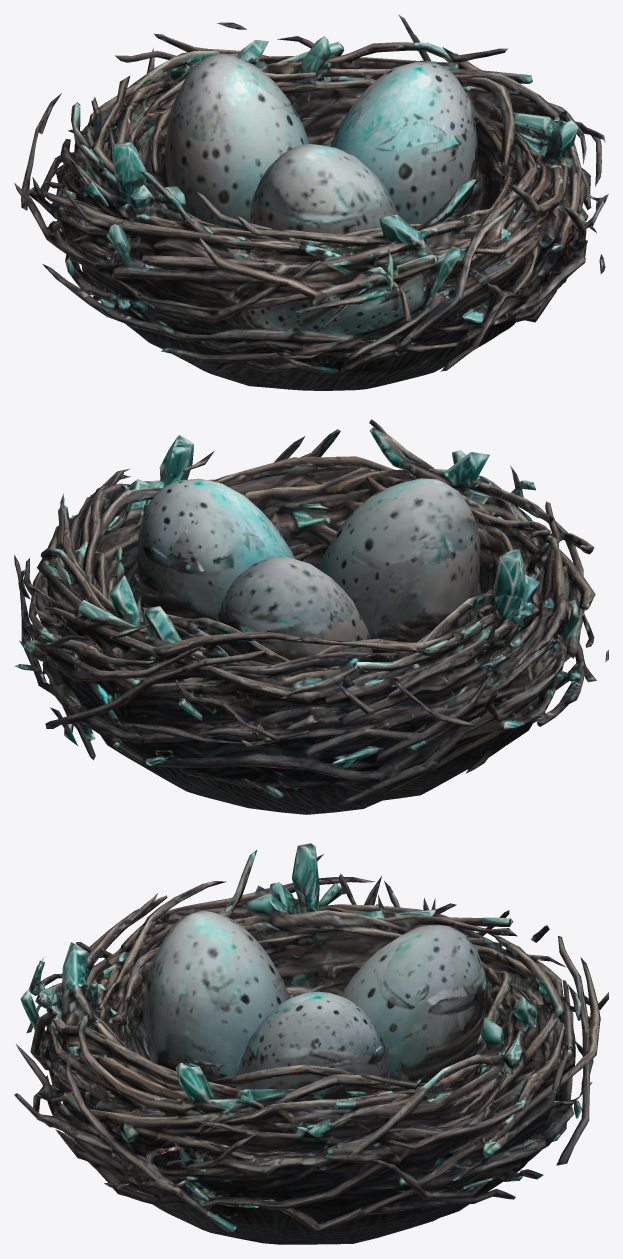
File: Eggs.fbx
The picture shows the model from 3 angles, top to bottom: view 1: azimuth 30°, elevation 25°; view 2: azimuth 150°, elevation 25°; view 3: azimuth 270°, elevation 25°; orthographic projection. The views are drawn at different scales.
Parts seen in each view (by area): view 1: texture_mapping; view 2: texture_mapping; view 3: texture_mapping.
Boxes of the visible parts, box(x1,y1,x2,y2) form: texture_mapping: box(14, 14, 608, 390); texture_mapping: box(14, 419, 608, 814); texture_mapping: box(14, 843, 608, 1244).
Size of the model in its own units: 0.9829 by 0.9845 by 0.4916.
1 material, 1 textured.
